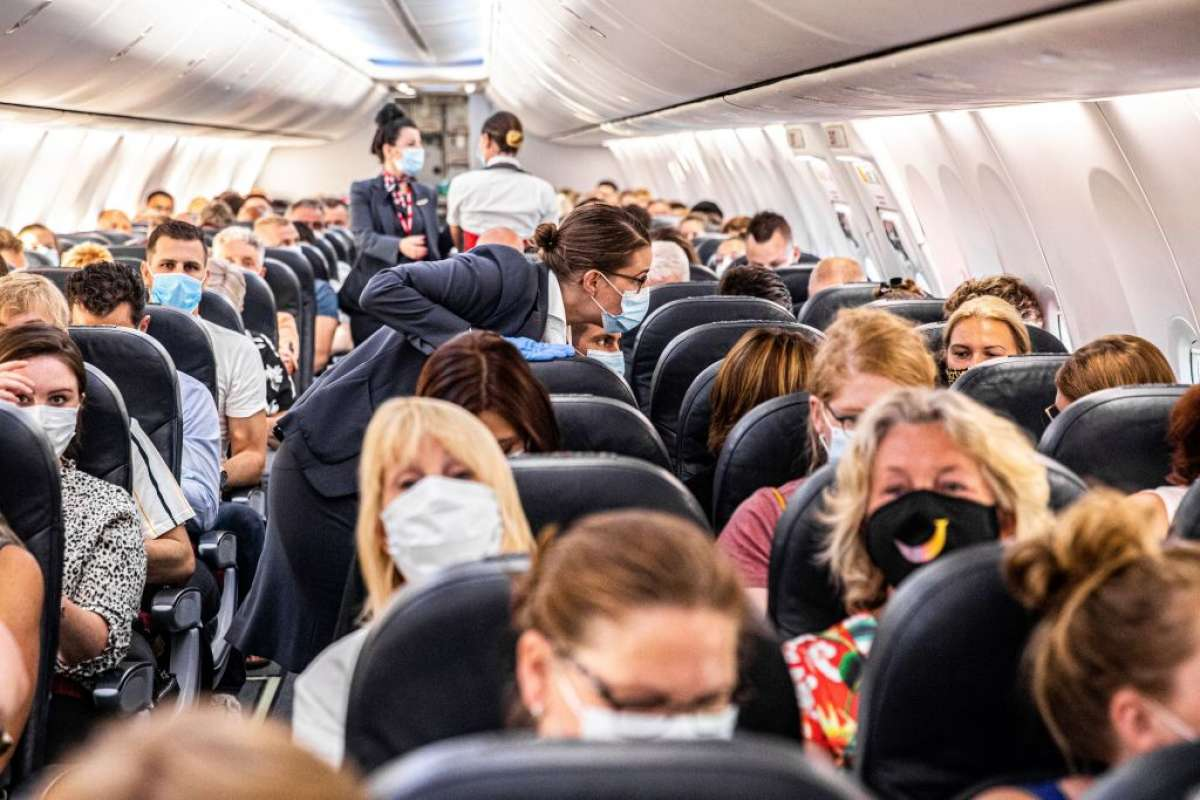with_mask: (519, 541, 739, 752), (859, 433, 990, 579), (370, 428, 497, 571), (568, 224, 647, 330), (3, 357, 77, 454), (149, 230, 204, 308), (570, 322, 625, 382), (382, 120, 422, 174)
